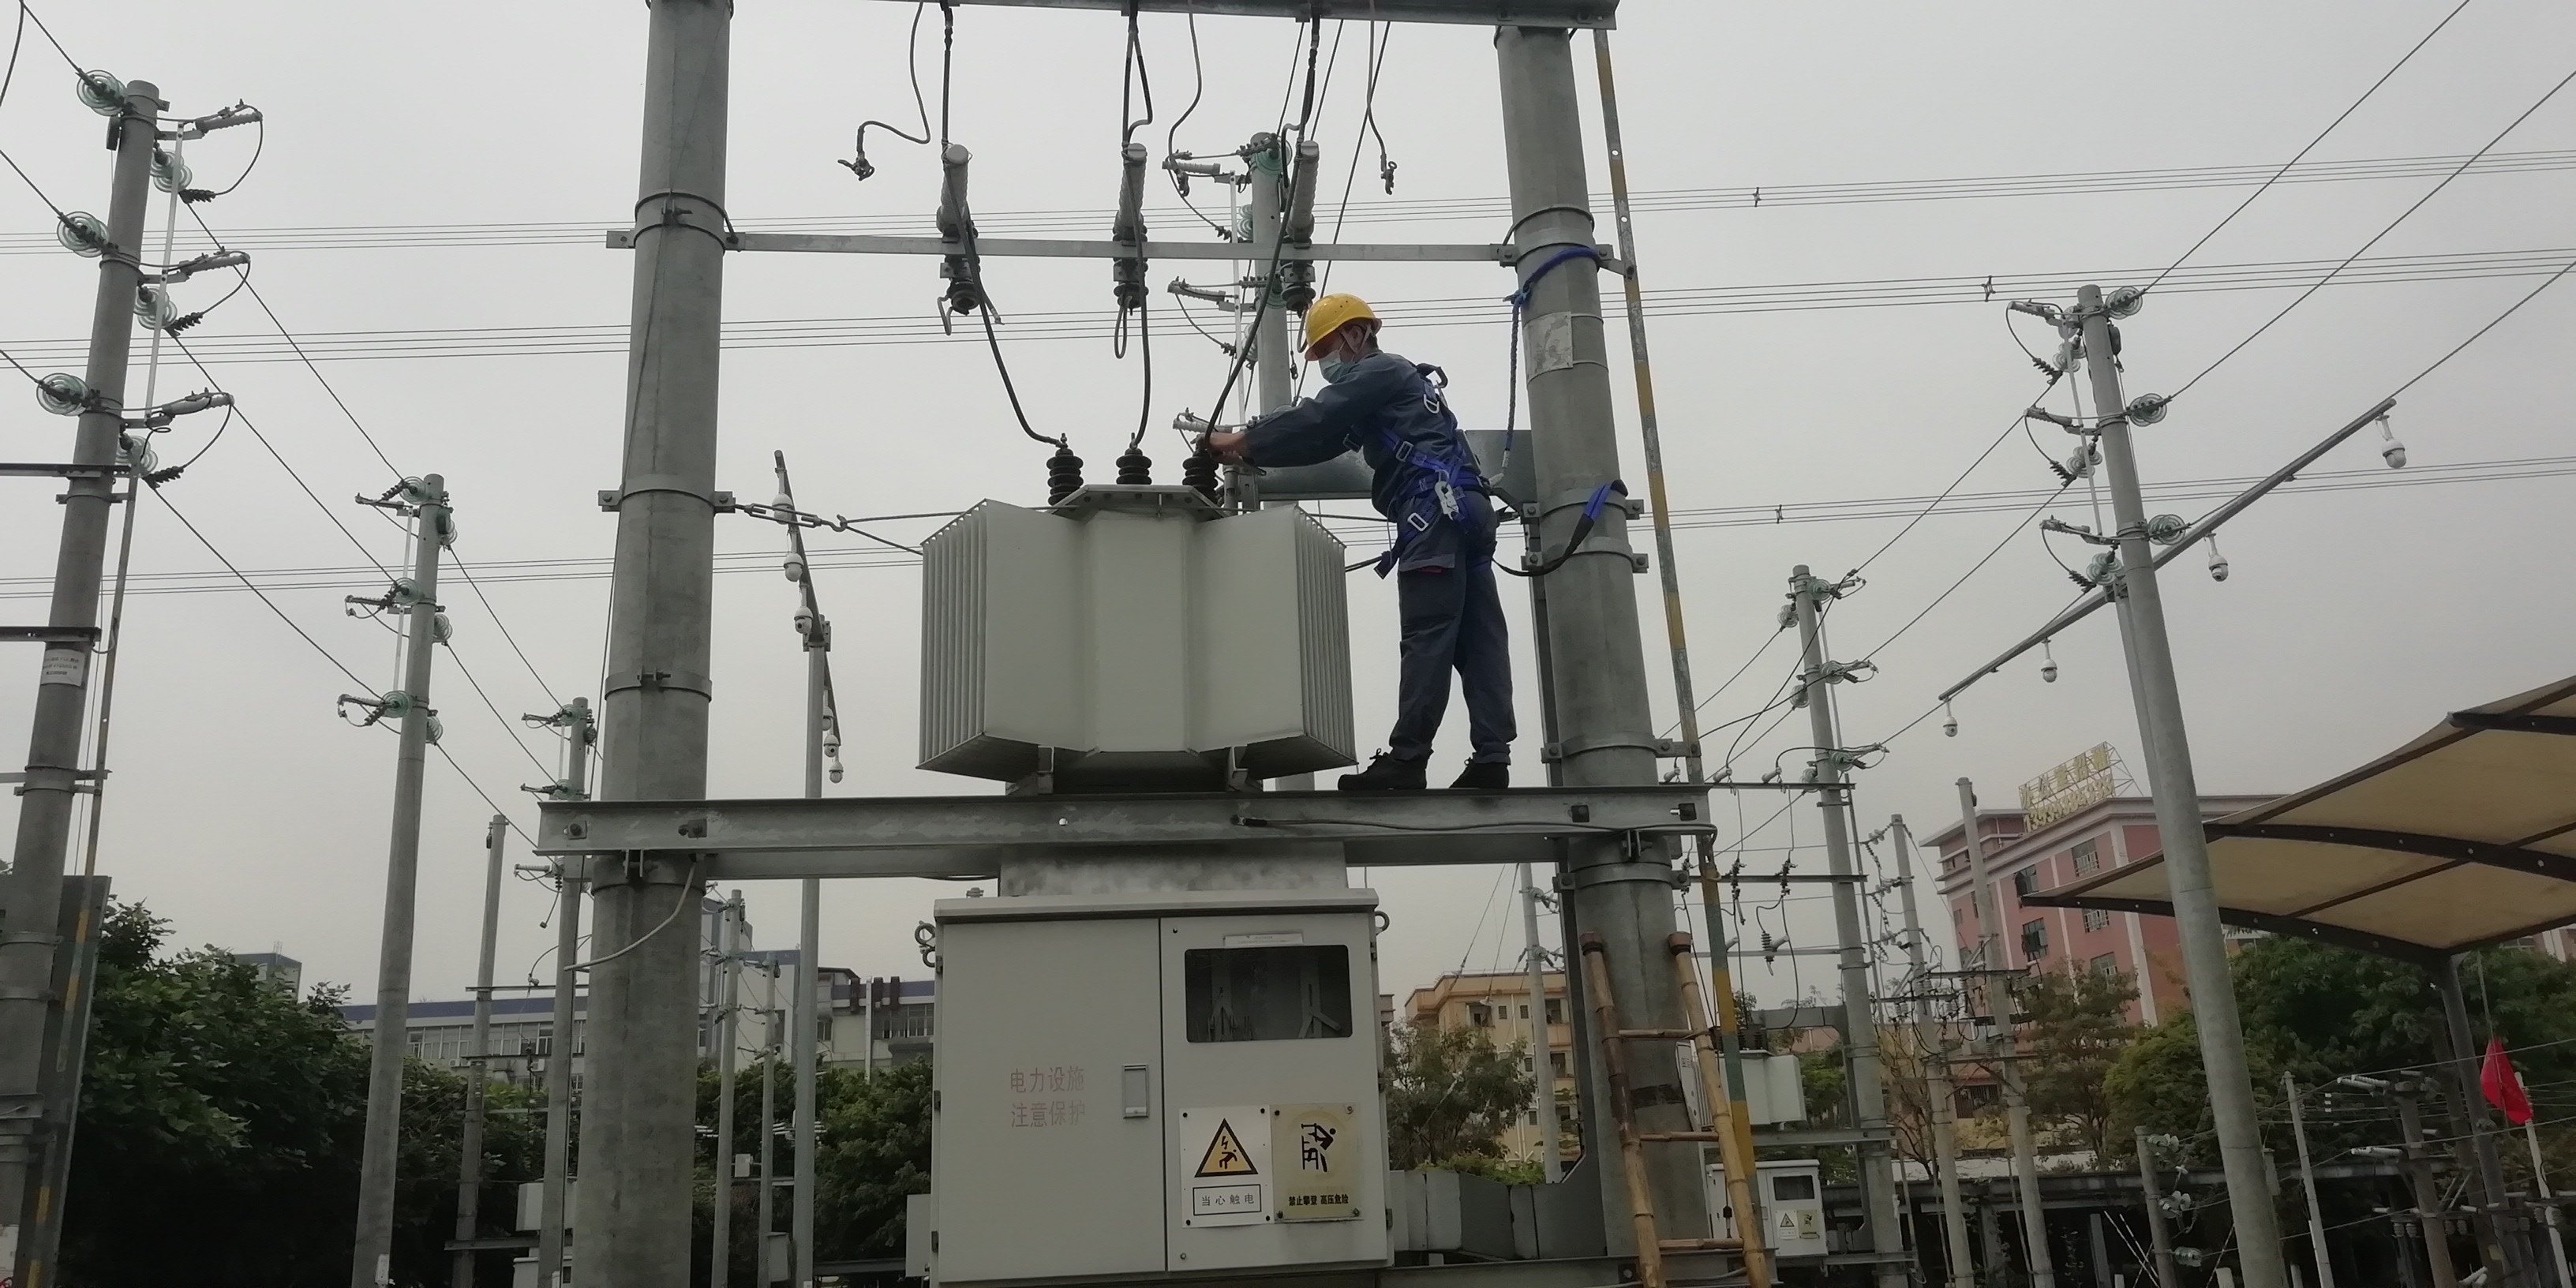downsuit: (1387, 529, 1521, 751)
upsuit: (1253, 368, 1492, 522)
